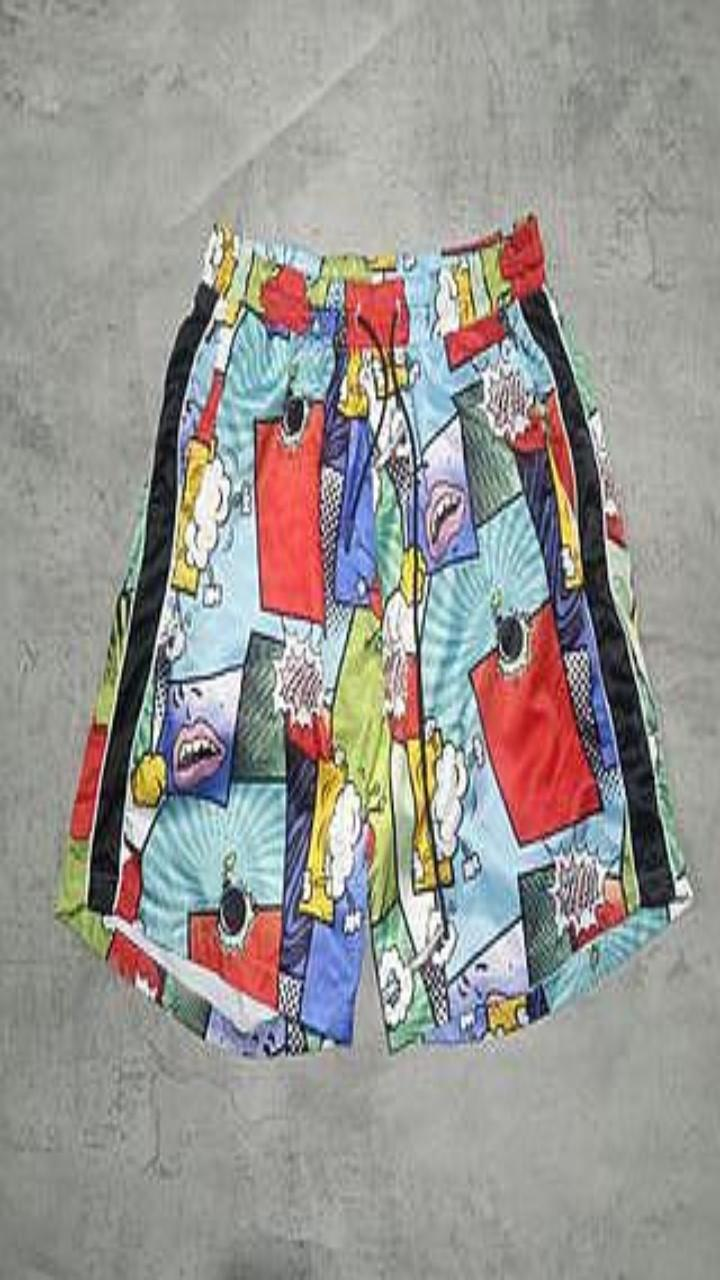Shorts: (55, 215, 690, 1055)
